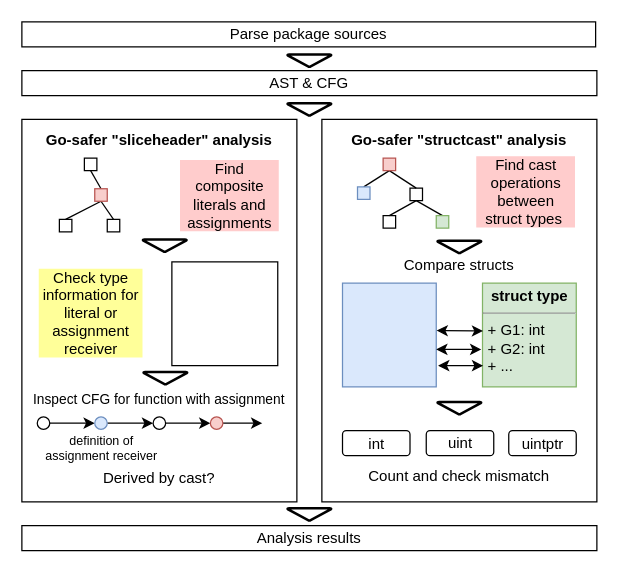
Some shapes in this 619 by 573 pixel diagram are drawn without their labels. Each missing label, with the box of its shape:
struct type + Data: uintptr + Len: int + (Cap: int): (171, 261, 278, 366)
struct type + F1: uint64 + F2: int + ...: (341, 282, 436, 387)
